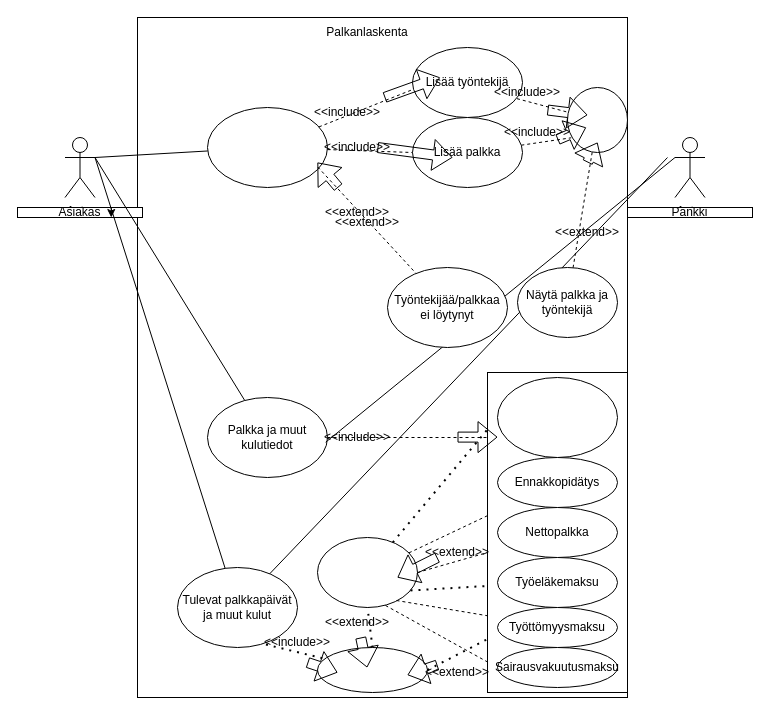
Some shapes in this 770 by 715 pixel diagram are drawn without their labels. Each missing label, with the centre of its shape:
"JSON" belongs at (597,119).
"Kokonaiskustannus työnantajalle" belongs at (557,417).
"Muut kulut yhteensä" belongs at (367,572).
"Tulevat kulut" belongs at (372,669).
"Työntekijän ja palkan lisäys" belongs at (267,147).
